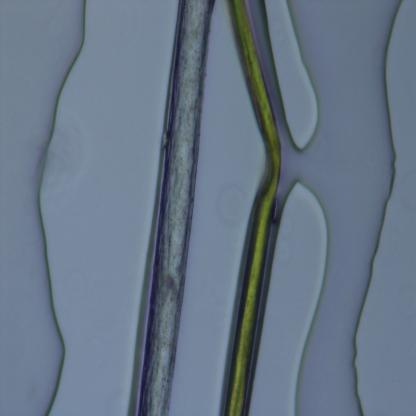Air bubble: (0, 1, 89, 415), (349, 1, 416, 415), (245, 176, 332, 414), (261, 0, 322, 152)
Microfibre: (138, 0, 217, 414), (221, 0, 281, 414)
